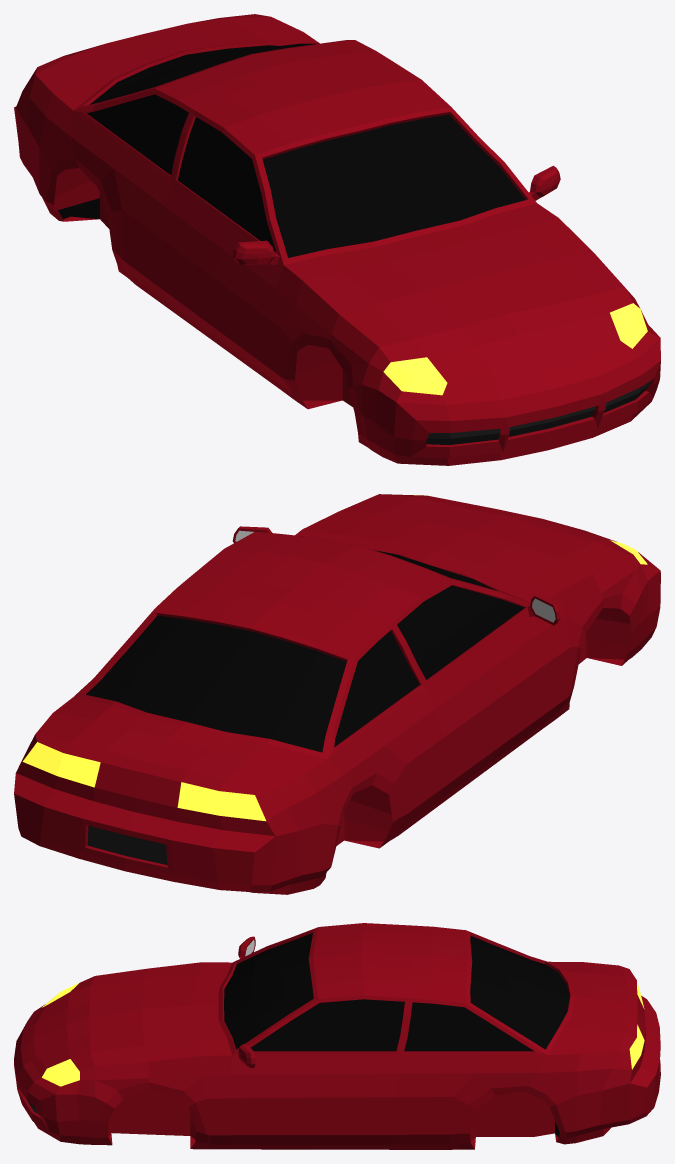
File: car200.glb
3 renders of one model, top to bottom at view 1: azimuth 30°, elevation 25°; view 2: azimuth 150°, elevation 25°; view 3: azimuth 270°, elevation 25°, orthographic. The views are drawn at different scales.
Visible parts, largest first — view 1: car.002; view 2: car.002; view 3: car.002.
Part boxes in pixels (left/top/right/bottom): car.002: left=14, top=14, right=660, bottom=465; car.002: left=14, top=494, right=660, bottom=894; car.002: left=14, top=923, right=660, bottom=1149.
Size of the model in its own units: 1.97 by 1.15 by 4.52.
